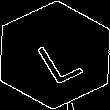L_NW: (26, 26, 84, 84)
